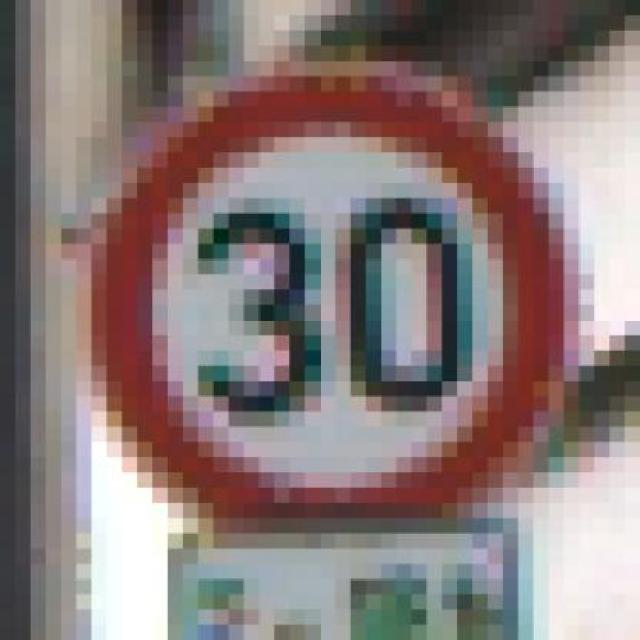Speed Limit 30 KMPh: (45, 61, 610, 548)
